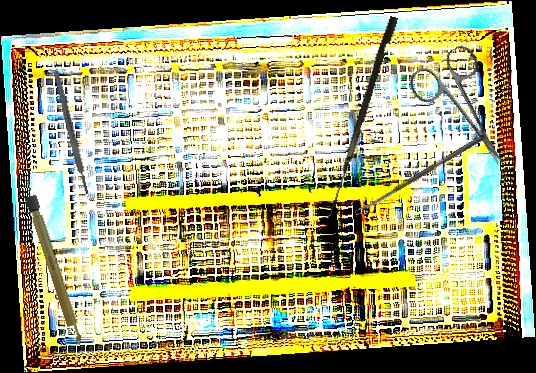Hook Surgical: (328, 14, 399, 220)
Iris Scissors: (404, 41, 529, 183)
Scalpel Handle: (24, 194, 85, 348), (52, 70, 91, 195)
Surgical Spoon: (354, 134, 484, 216)
